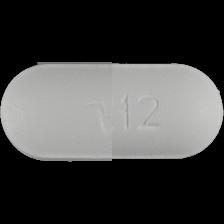50090-0173: (0, 0, 224, 224)
